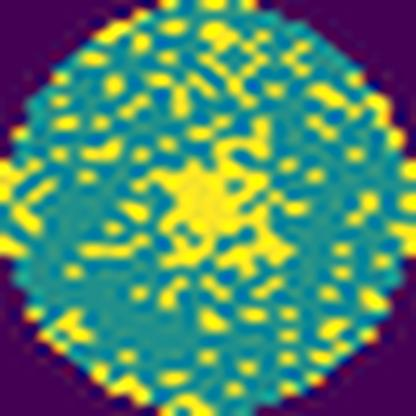Center: (137, 117, 298, 281)
